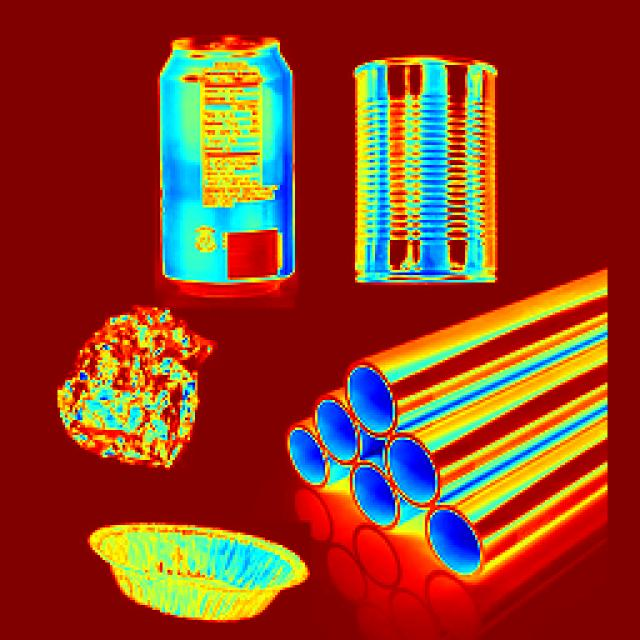Aluminium Food Cans: (162, 23, 326, 291), (359, 67, 518, 310), (76, 506, 306, 640)
